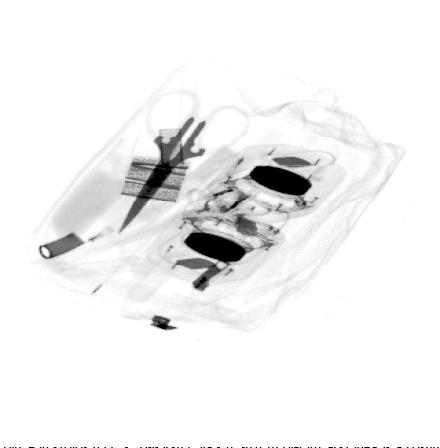Scissors: (117, 91, 249, 233)
